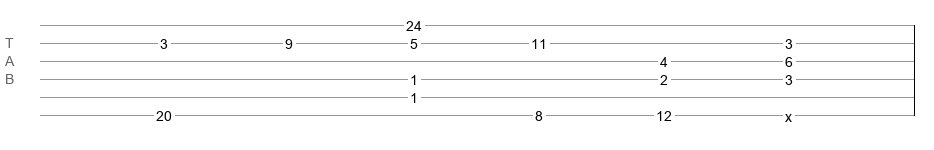1: (410, 72, 418, 82), (410, 90, 418, 100)
11: (531, 36, 547, 46)
12: (656, 108, 672, 118)
2: (660, 72, 668, 82)
20: (156, 108, 172, 118)
24: (406, 18, 422, 28)
3: (160, 36, 168, 46), (785, 36, 793, 46), (785, 72, 793, 82)
4: (660, 54, 668, 64)
5: (410, 36, 418, 46)
6: (785, 54, 793, 64)
8: (535, 108, 543, 118)
9: (285, 36, 293, 46)
x: (785, 109, 792, 117)
